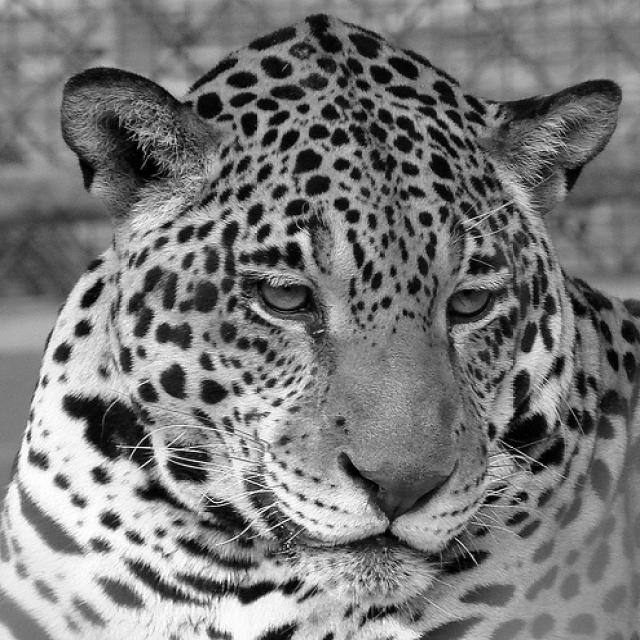Leopard: (0, 6, 636, 636)
